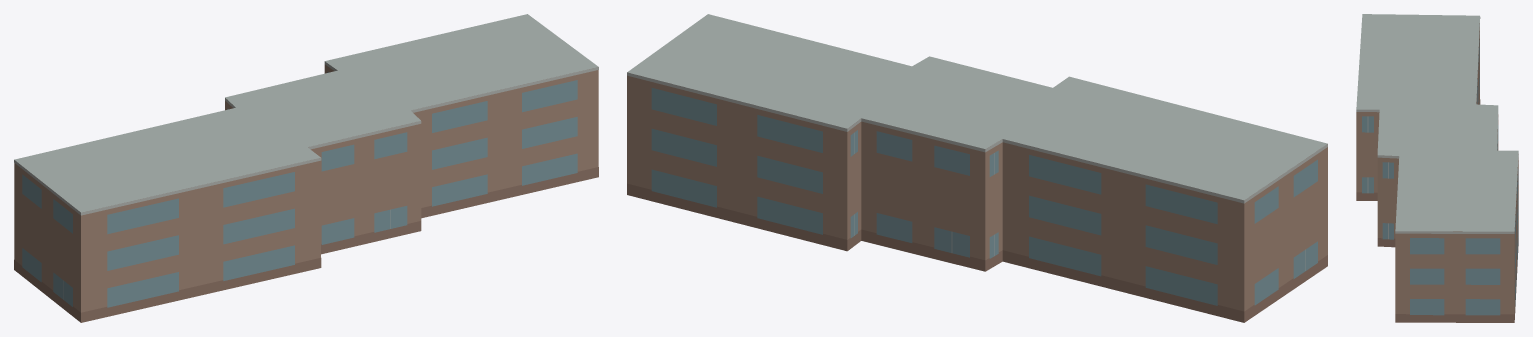
Rendered from survey-upis-32759062.glb.
3 views of the same model, side by side, from view 1: azimuth 30°, elevation 25°; view 2: azimuth 150°, elevation 25°; view 3: azimuth 270°, elevation 25° (orthographic). The views are drawn at different scales.
Visible parts, largest first — view 1: survey-upis-32759062.tmp; view 2: survey-upis-32759062.tmp; view 3: survey-upis-32759062.tmp.
Boxes of the visible parts, x1,y1,x2,y2 form: survey-upis-32759062.tmp: (14, 14, 598, 322); survey-upis-32759062.tmp: (627, 14, 1327, 322); survey-upis-32759062.tmp: (1356, 14, 1518, 322).
Size of the model in its own units: 46.77 by 9.15 by 14.75.
